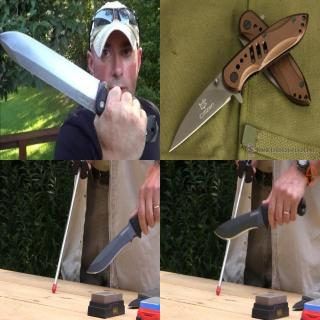knife: (0, 28, 145, 142), (84, 196, 160, 278), (166, 69, 232, 155), (210, 189, 308, 244)
